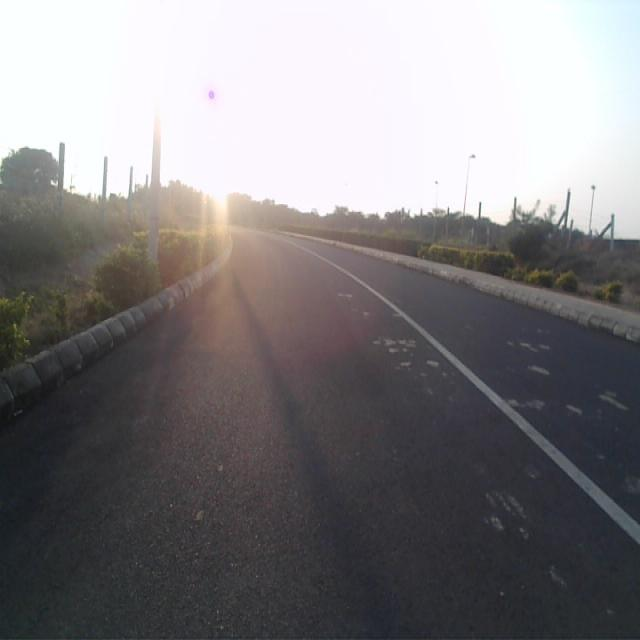lane: (0, 242, 640, 640)
